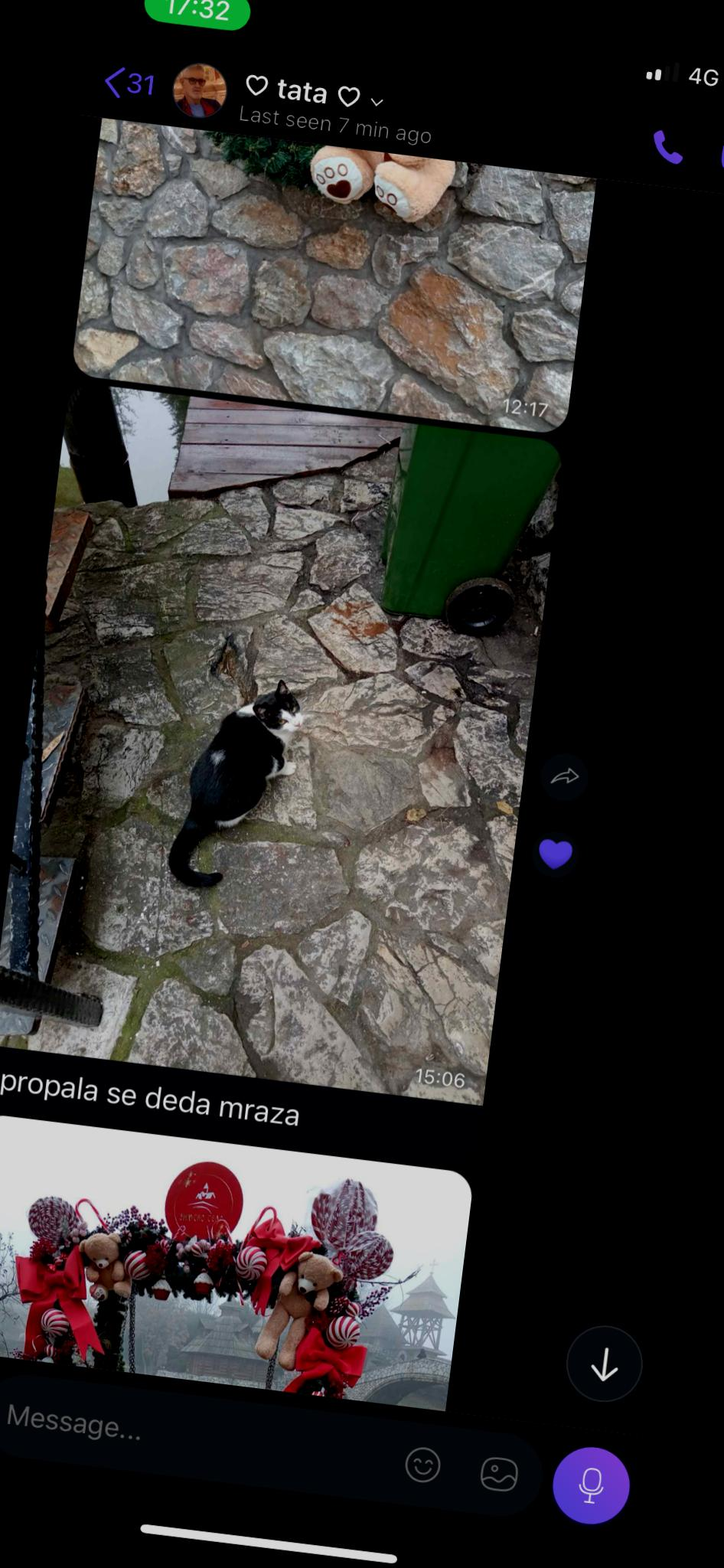macka: (165, 668, 307, 902)
